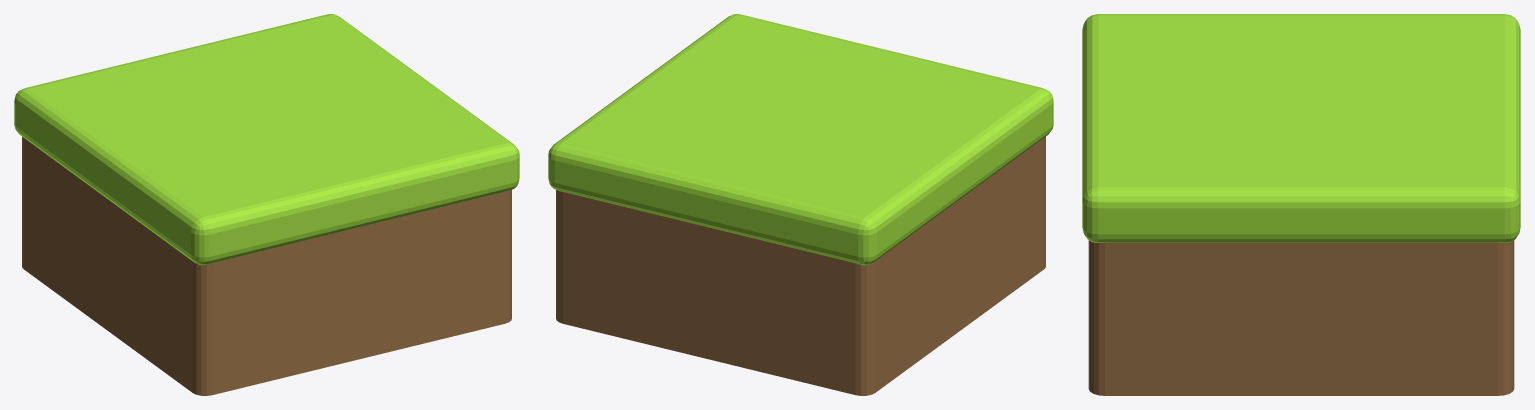
File: GROUND.fbx
The picture shows the model from 3 angles, left to right: view 1: azimuth 30°, elevation 25°; view 2: azimuth 150°, elevation 25°; view 3: azimuth 270°, elevation 25°; orthographic projection. The views are drawn at different scales.
Visible parts, largest first — view 1: Cube.001, Cube; view 2: Cube.001, Cube; view 3: Cube.001, Cube.
Part boxes in pixels (bbox=[...]): Cube.001: bbox=[14, 14, 519, 265]; Cube: bbox=[22, 136, 511, 395]; Cube.001: bbox=[548, 14, 1053, 265]; Cube: bbox=[556, 136, 1045, 395]; Cube.001: bbox=[1082, 14, 1520, 242]; Cube: bbox=[1088, 240, 1514, 395].
Bounding box in the file's own units: 206 × 106 × 206.
